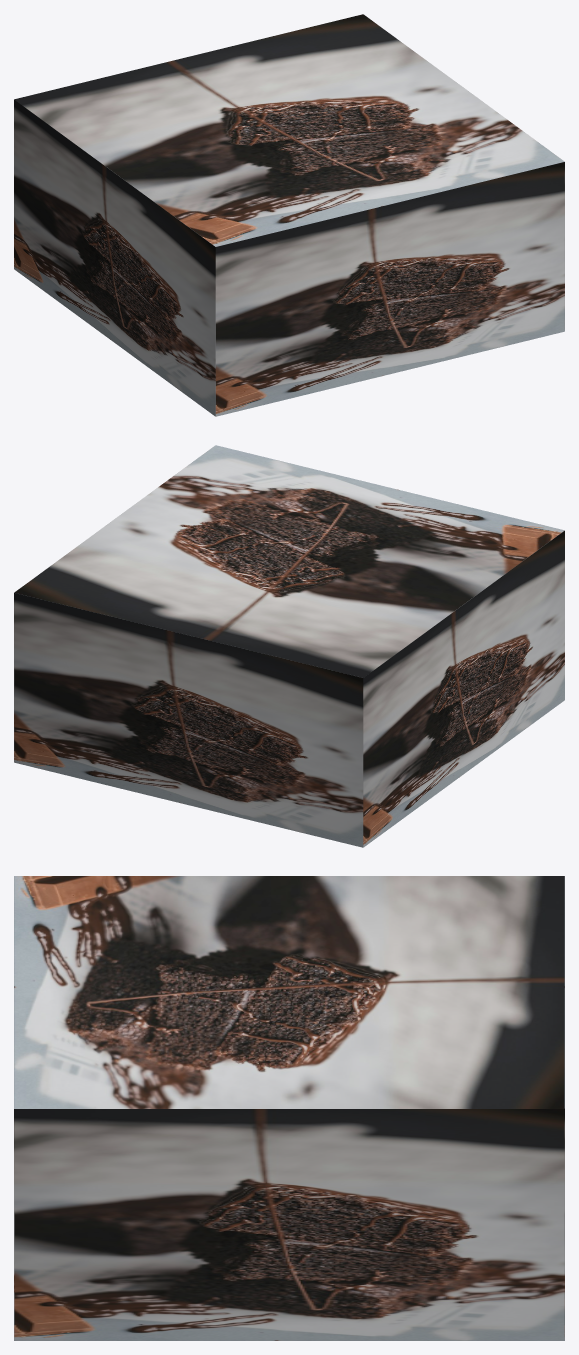
The model's file is p9-brownie.glb.
3 views of the same model, one above another, from view 1: azimuth 30°, elevation 25°; view 2: azimuth 150°, elevation 25°; view 3: azimuth 270°, elevation 25° (orthographic). The views are drawn at different scales.
Size of the model in its own units: 1.55 by 0.72 by 1.55.
1 material, 1 textured.
